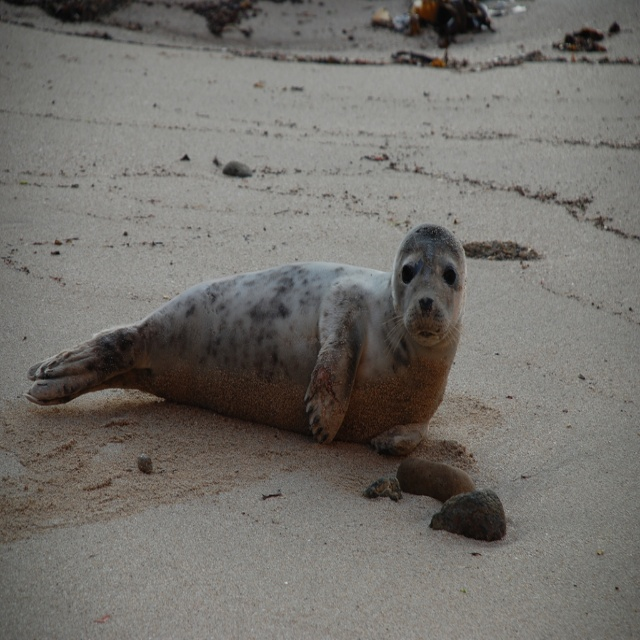Harbor seal: (25, 226, 471, 457)
